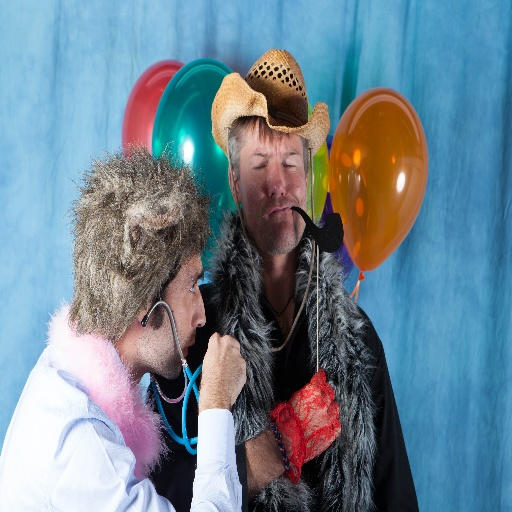hand: (195, 324, 250, 447), (279, 368, 342, 462)
